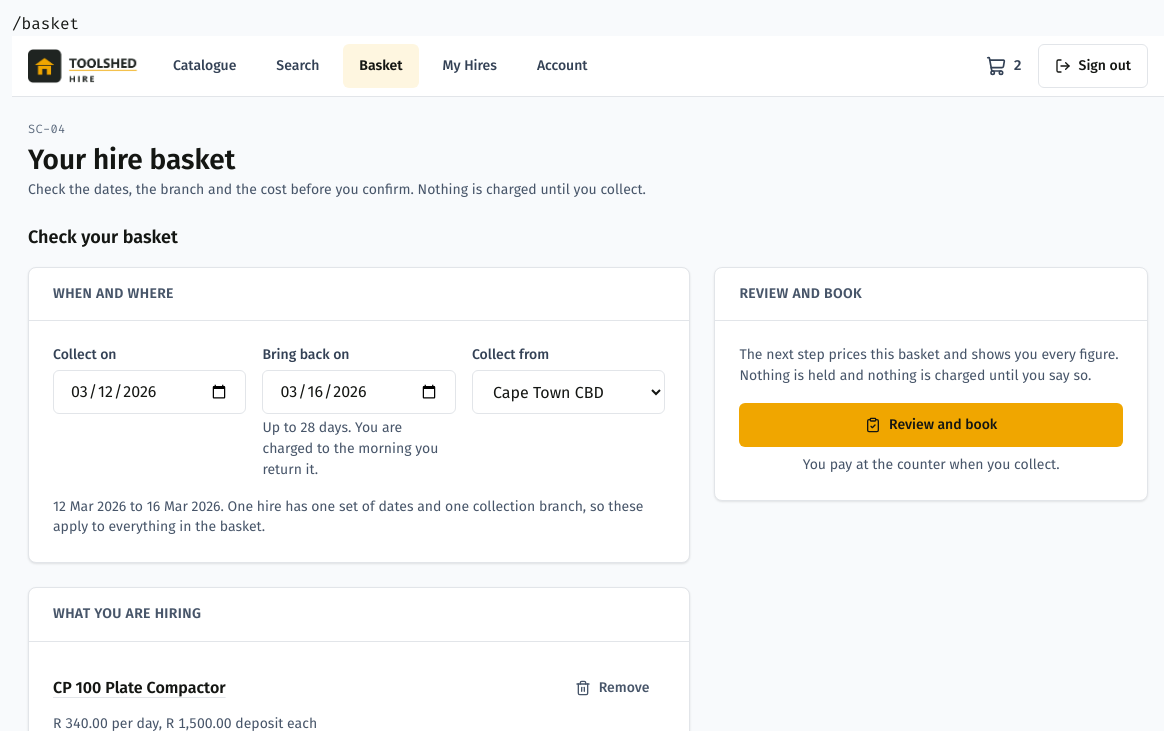
Test: giving a hold up to change the basket › goes back to the basket when the server says the hold was already gone
Click the button "Review and book" at (931, 425), box [739,403,1123,447]
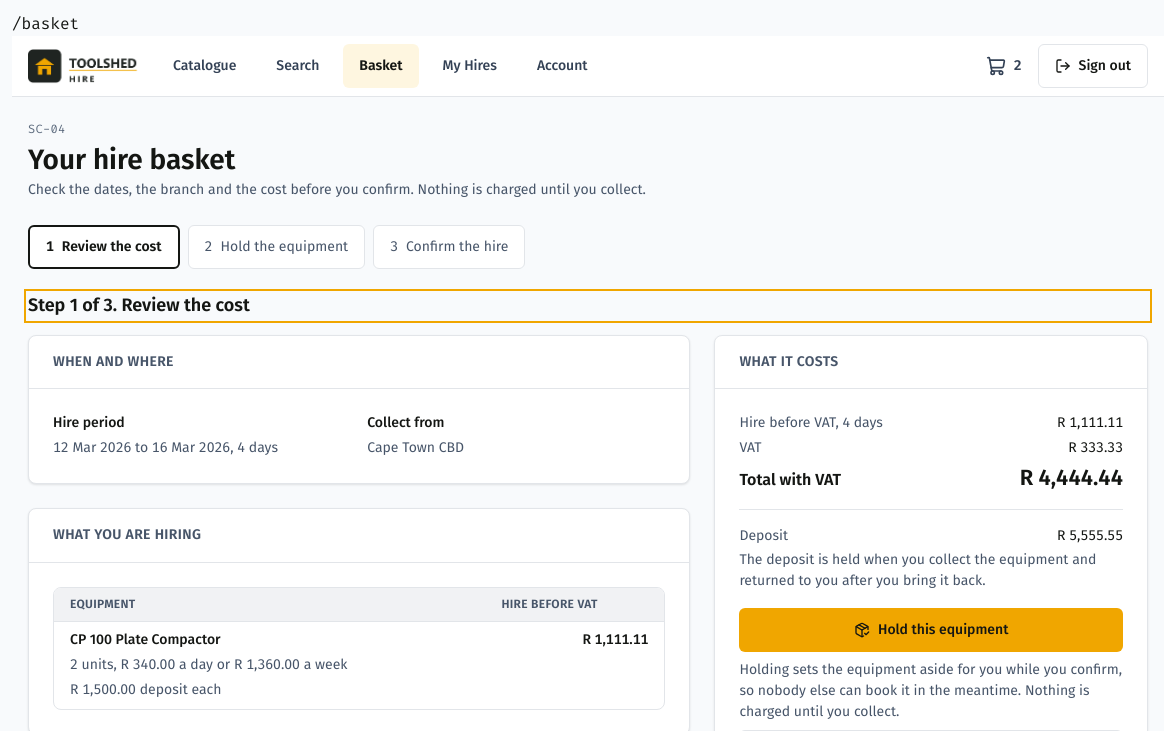
Click the button "Hold this equipment" at (931, 630), box [739,608,1123,652]
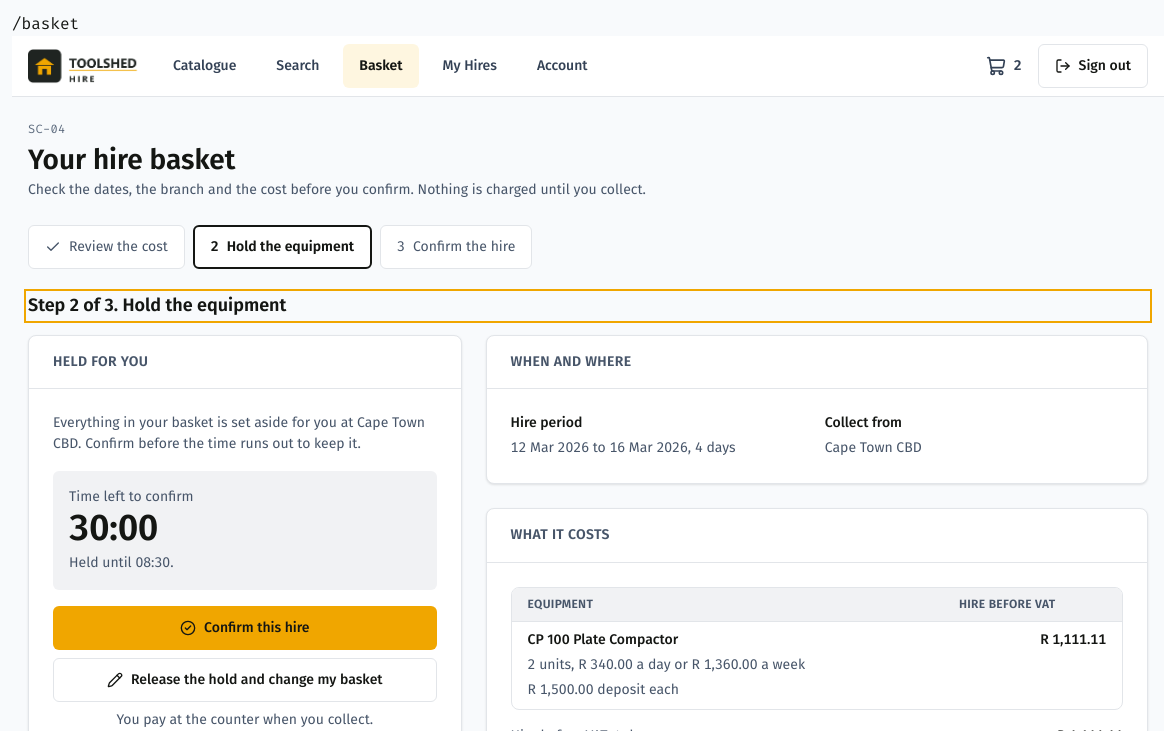
Click the button "Release the hold and change my basket" at (245, 680), box [53,658,437,702]
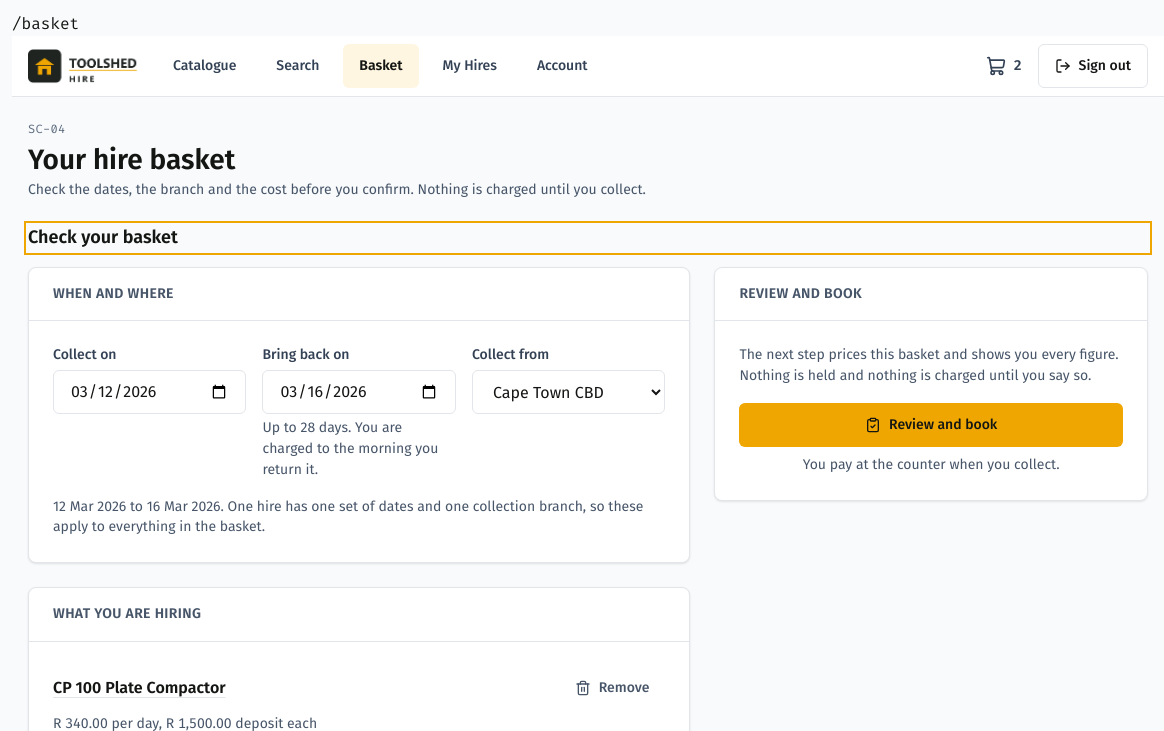
Check: the heading "Check your basket" is shown, box [28,225,1148,251]
